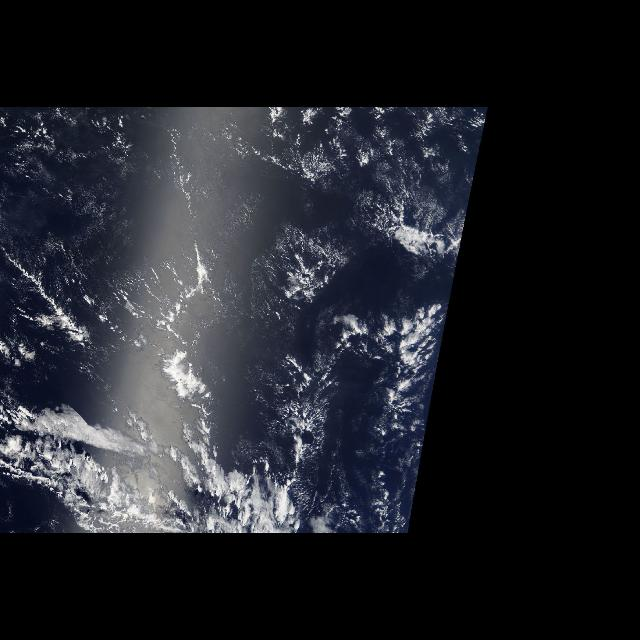Fish: (1, 373, 349, 533)
Sugar: (4, 113, 366, 359)
